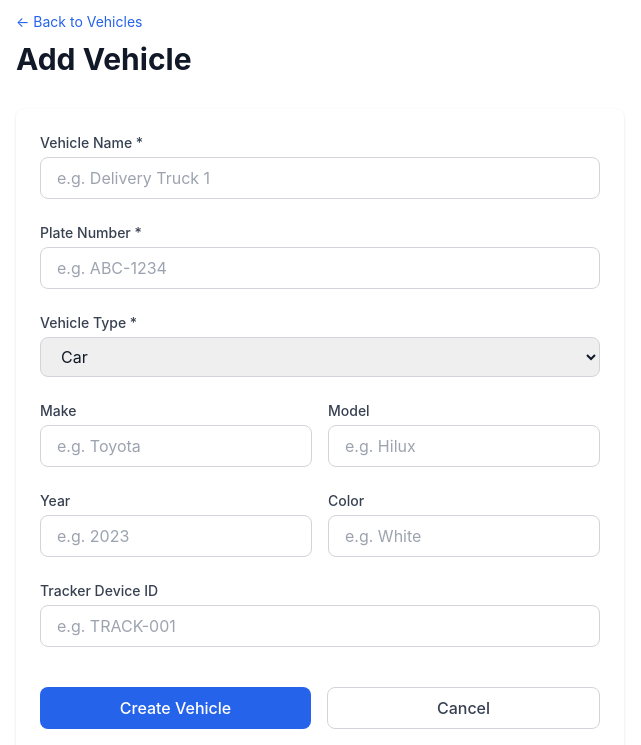
Test: CreateVehiclePage › surfaces a string error message returned by the API
The width and height of the screenshot is (641, 745).
In the field labelled "Vehicle Name *": (320, 178) [40,157,600,199], type "Delivery Van 1"
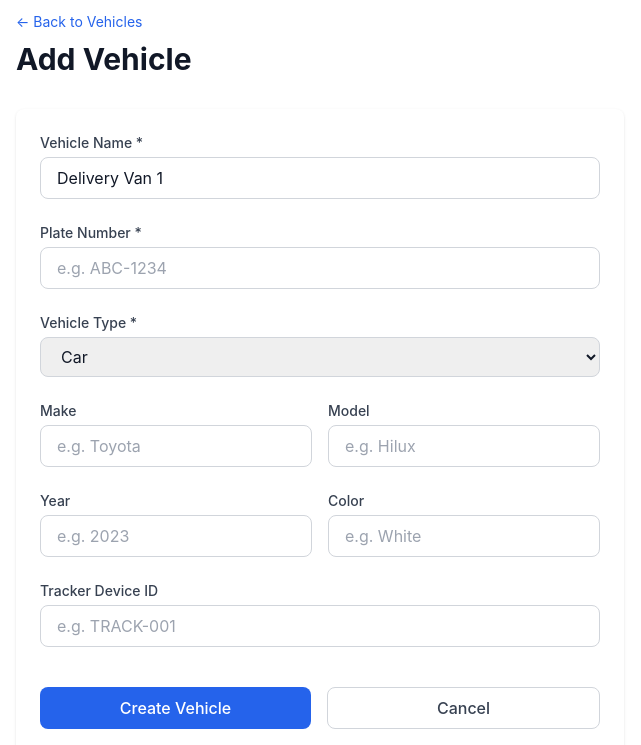
In the field labelled "Plate Number *": (320, 268) [40,247,600,289], type "AA-1234"
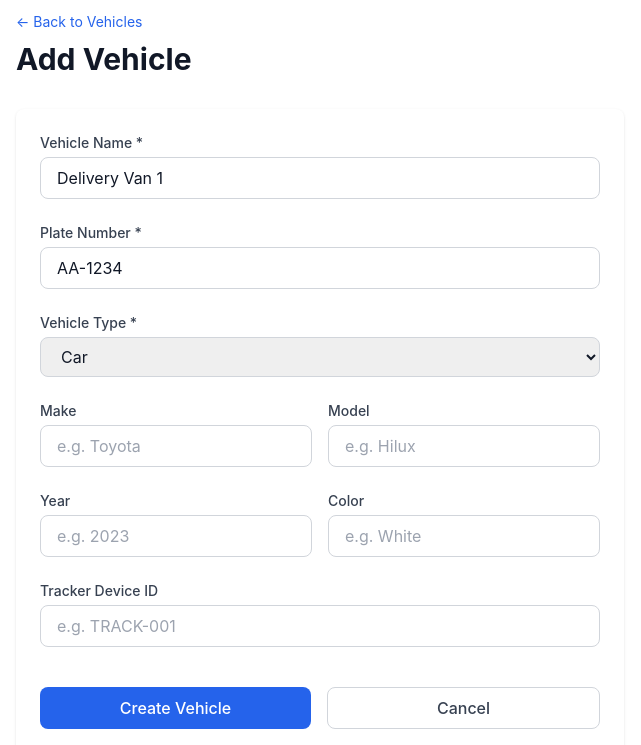
Click the button "Create Vehicle": (176, 708) [40,687,311,729]
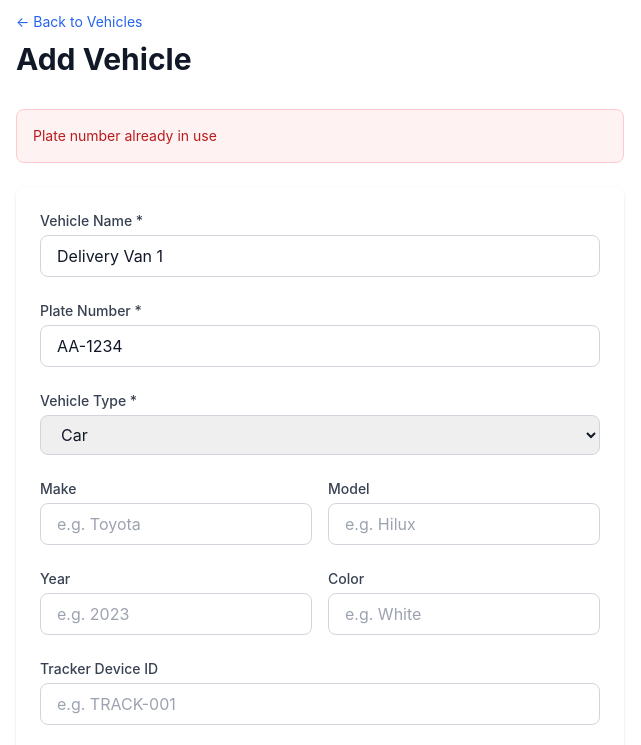
expect the text "Plate number already in use" is shown: met, box [16,109,624,163]
